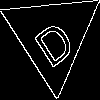D: (27, 11, 78, 70)
